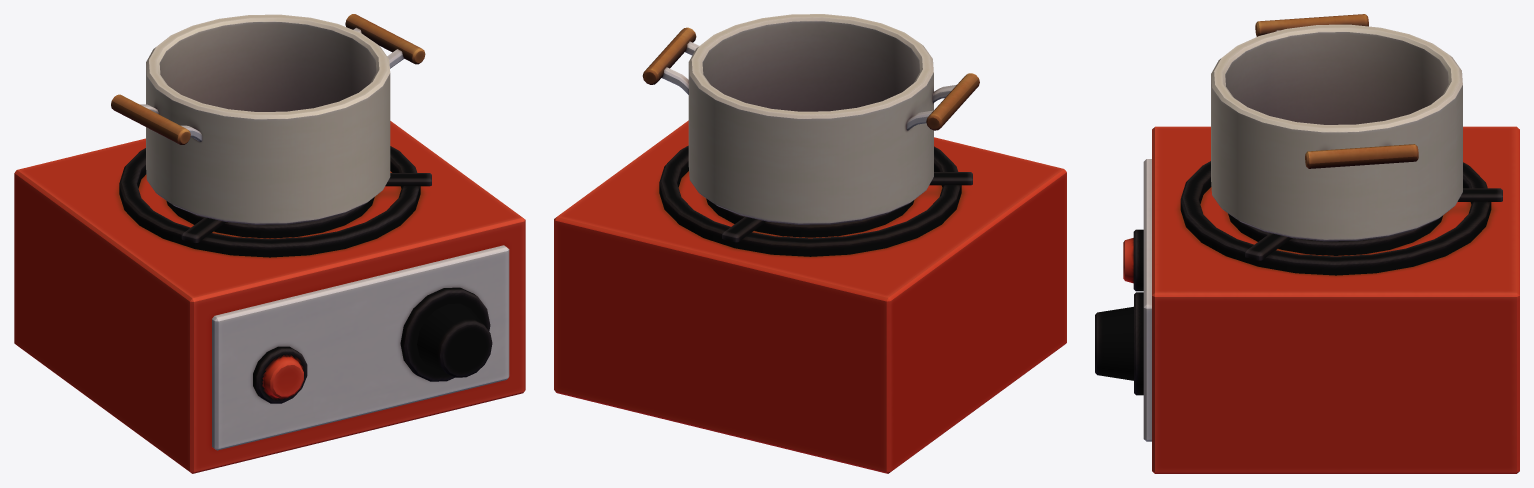
The model's file is VarkaStation.obj.
3 views of the same model, side by side, from view 1: azimuth 30°, elevation 25°; view 2: azimuth 150°, elevation 25°; view 3: azimuth 270°, elevation 25° (orthographic). The views are drawn at different scales.
Parts seen in each view (by area): view 1: Stove.004, Pot.001; view 2: Stove.004, Pot.001; view 3: Stove.004, Pot.001.
Boxes of the visible parts, box(x1,y1,x2,y2) form: Stove.004: box(14, 121, 525, 473); Pot.001: box(111, 14, 425, 224); Stove.004: box(554, 120, 1066, 473); Pot.001: box(642, 14, 979, 224); Stove.004: box(1095, 126, 1519, 473); Pot.001: box(1211, 14, 1462, 241).
Bounding box in the file's own units: 2 × 1.73 × 2.13.
2 materials, 2 textured.
